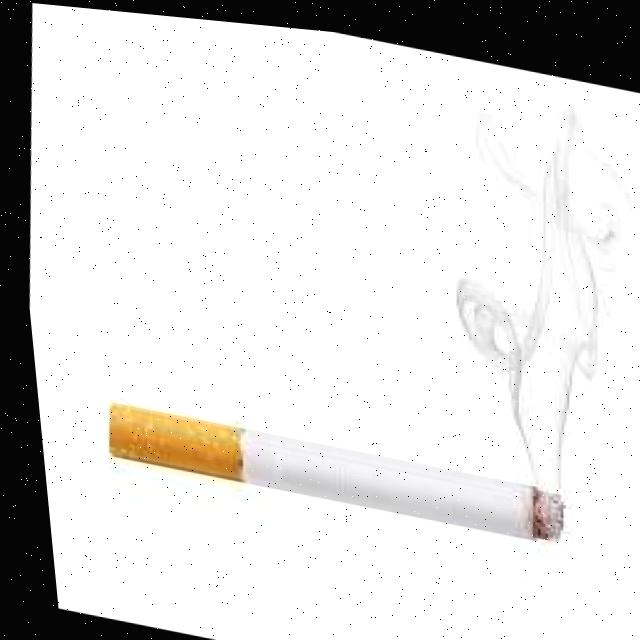cigarette: (109, 405, 558, 542)
